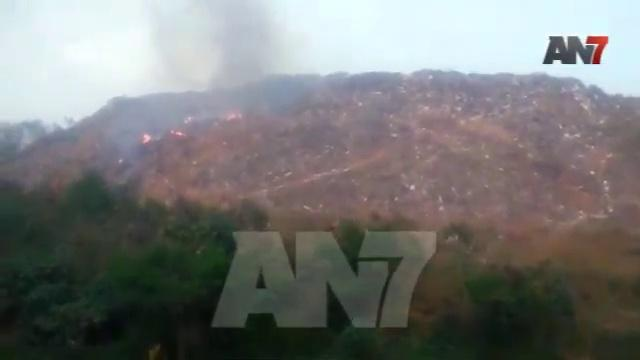smoke: (179, 6, 285, 97)
